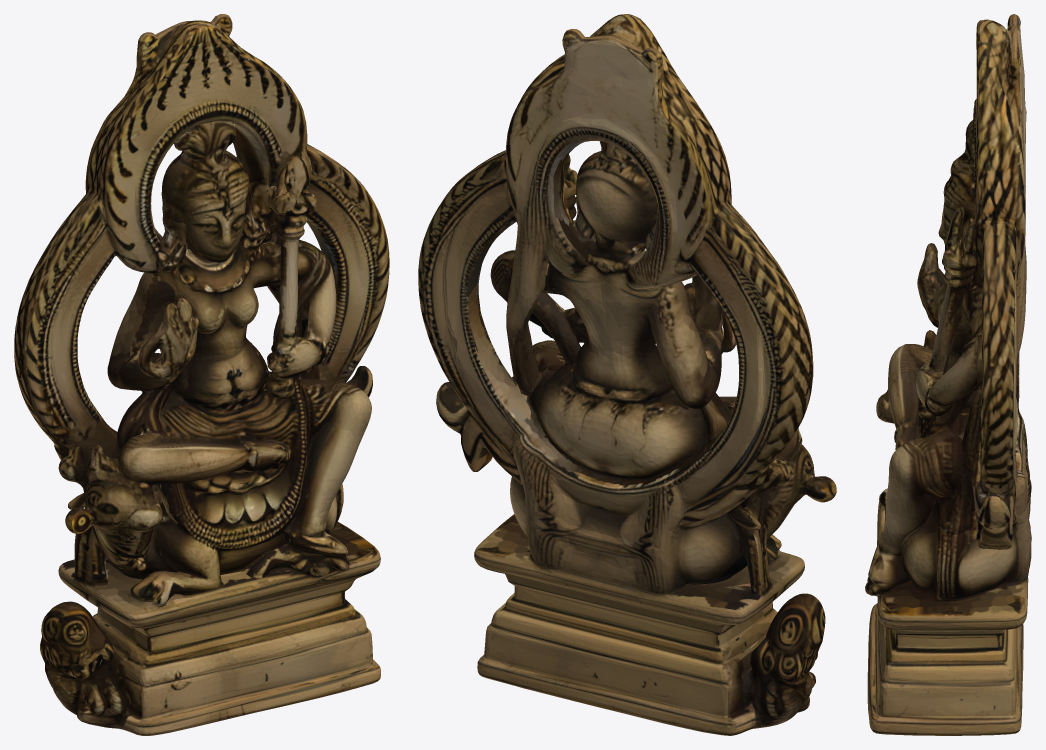
3 views of the same model, side by side, from view 1: azimuth 30°, elevation 25°; view 2: azimuth 150°, elevation 25°; view 3: azimuth 270°, elevation 25° (orthographic). The views are drawn at different scales.
Visible parts, largest first — view 1: textured_mesh; view 2: textured_mesh; view 3: textured_mesh.
Part boxes in pixels (x1,y1,x2,y2): textured_mesh: [14, 14, 389, 735]; textured_mesh: [418, 14, 836, 735]; textured_mesh: [865, 14, 1031, 735].
Bounding box in the file's own units: 1.18 × 1.99 × 0.4608.
Materials: 1 (1 with a texture image).
